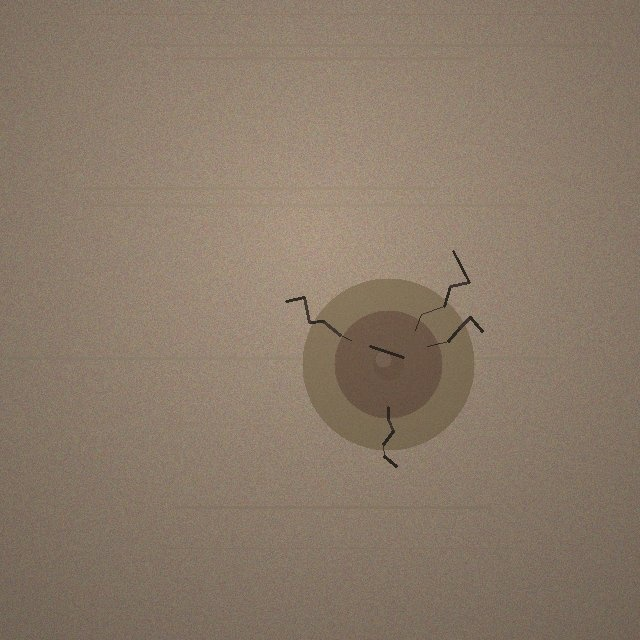crack: (302, 278, 474, 450)
